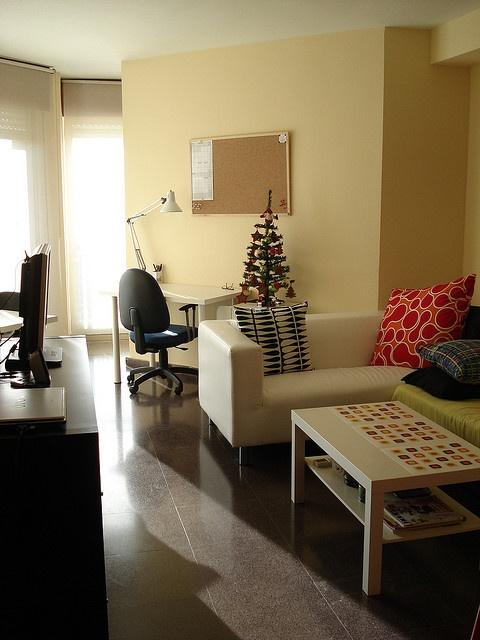AIO PC-Monitor-TV: (16, 242, 52, 362)
Kursi: (118, 267, 197, 394)
Meja: (287, 398, 479, 594), (158, 281, 242, 318)
